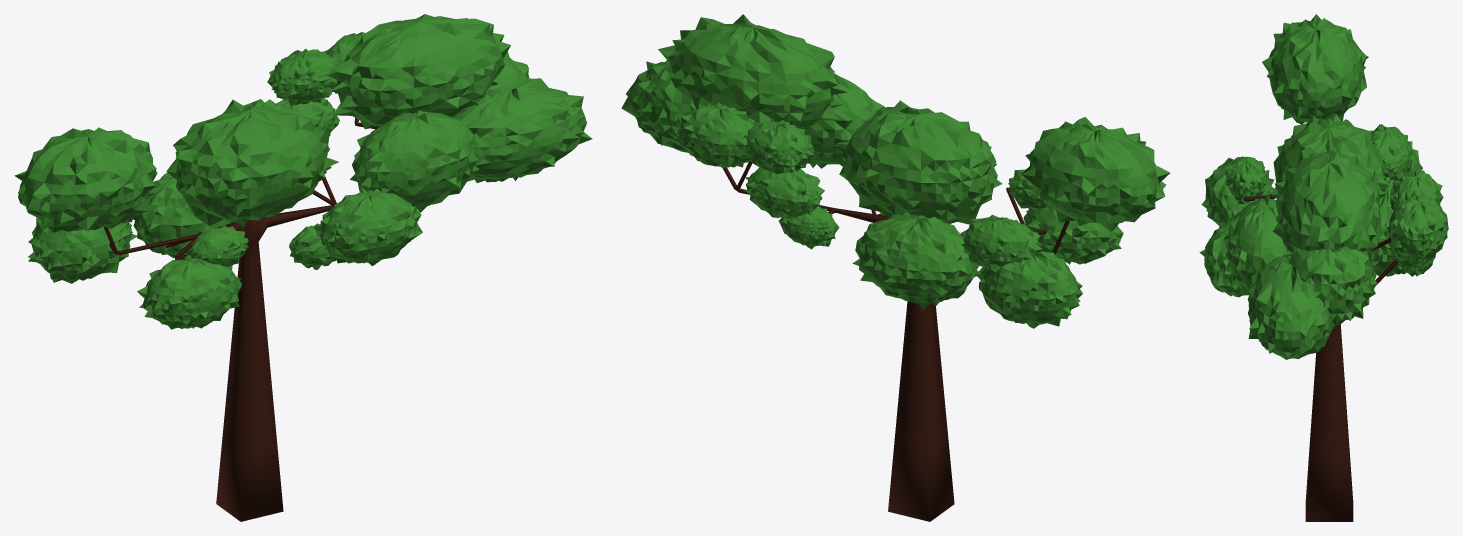
Rendered from drzewo4.obj.
3 renders of one model, left to right at view 1: azimuth 30°, elevation 25°; view 2: azimuth 150°, elevation 25°; view 3: azimuth 270°, elevation 25°, orthographic. The views are drawn at different scales.
Parts seen in each view (by area): view 1: liscie, liscie.002, Cube, liscie.001, liscie.003, liscie.011, liscie.015, liscie.005, liscie.006, liscie.013, liscie.008, liscie.007 (+3 smaller); view 2: liscie, liscie.002, Cube, liscie.001, liscie.013, liscie.006, liscie.009, liscie.005, liscie.014, liscie.011, liscie.012, liscie.008 (+4 smaller); view 3: liscie.002, liscie.001, Cube, liscie.003, liscie.004, liscie, liscie.011, liscie.009, liscie.005, liscie.014, liscie.015, liscie.007 (+4 smaller).
Boxes of the visible parts, left/top/right/bottom form: liscie: left=166, top=99, right=338, bottom=227; liscie.002: left=327, top=14, right=510, bottom=129; Cube: left=104, top=118, right=379, bottom=521; liscie.001: left=14, top=127, right=157, bottom=232; liscie.003: left=453, top=78, right=592, bottom=183; liscie.011: left=350, top=110, right=478, bottom=212; liscie.015: left=314, top=186, right=422, bottom=265; liscie.005: left=137, top=255, right=241, bottom=329; liscie.006: left=28, top=217, right=137, bottom=283; liscie.013: left=133, top=173, right=233, bottom=258; liscie.008: left=267, top=48, right=339, bottom=105; liscie.007: left=188, top=225, right=248, bottom=266; liscie: left=836, top=100, right=1002, bottom=224; liscie.002: left=658, top=14, right=847, bottom=128; Cube: left=723, top=161, right=1069, bottom=521; liscie.001: left=1021, top=117, right=1170, bottom=232; liscie.013: left=852, top=212, right=978, bottom=310; liscie.006: left=974, top=251, right=1082, bottom=328; liscie.009: left=676, top=102, right=754, bottom=168; liscie.005: left=1023, top=205, right=1123, bottom=264; liscie.014: left=961, top=214, right=1043, bottom=269; liscie.011: left=804, top=73, right=884, bottom=168; liscie.012: left=744, top=167, right=824, bottom=218; liscie.008: left=744, top=119, right=813, bottom=173; liscie.002: left=1272, top=147, right=1385, bottom=254; liscie.001: left=1262, top=14, right=1368, bottom=124; Cube: left=1244, top=194, right=1398, bottom=521; liscie.003: left=1247, top=253, right=1333, bottom=359; liscie.004: left=1288, top=246, right=1377, bottom=325; liscie: left=1270, top=114, right=1389, bottom=198; liscie.011: left=1223, top=194, right=1290, bottom=295; liscie.009: left=1386, top=190, right=1448, bottom=264; liscie.005: left=1201, top=156, right=1274, bottom=225; liscie.014: left=1369, top=124, right=1412, bottom=183; liscie.015: left=1199, top=222, right=1244, bottom=297; liscie.007: left=1225, top=156, right=1267, bottom=201.
Bounding box in the file's own units: 6.25 × 4.87 × 2.55.
